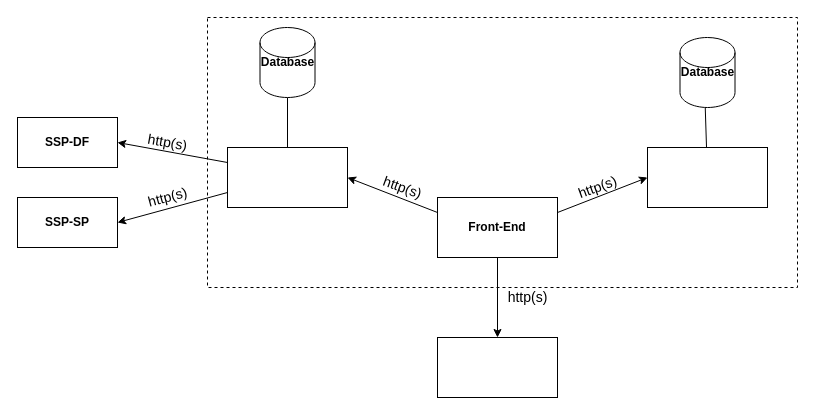
The diagram is 815 pixels wide and 415 high, and some of its shapes have lost their labels. Here are the shapes that lost their labels. From the top down, the centre of each, then its label:
[287,177]: secretary-service
[707,177]: user-service
[497,367]: Google Maps
